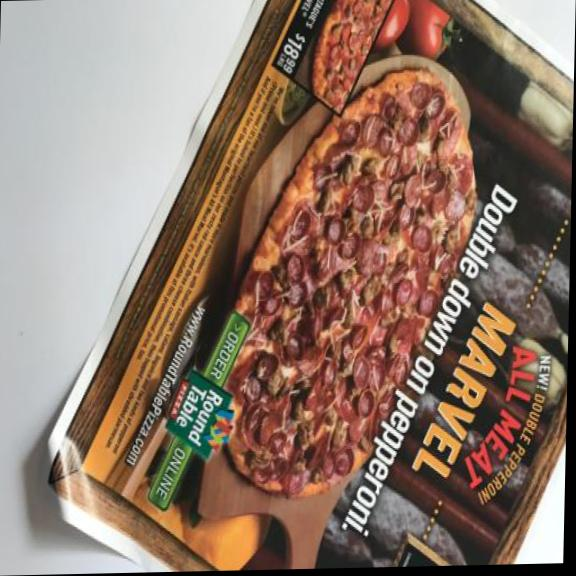Kertas: (39, 0, 570, 575)
